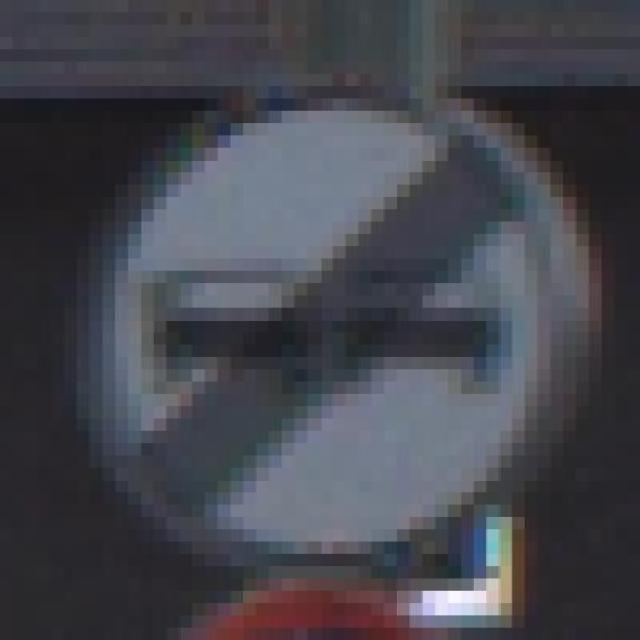No_Over_Taking: (38, 37, 614, 566)
